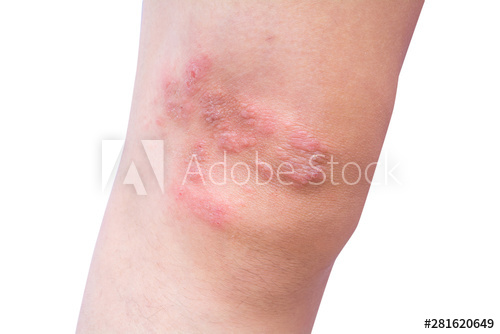Eczema: (155, 33, 339, 224)
